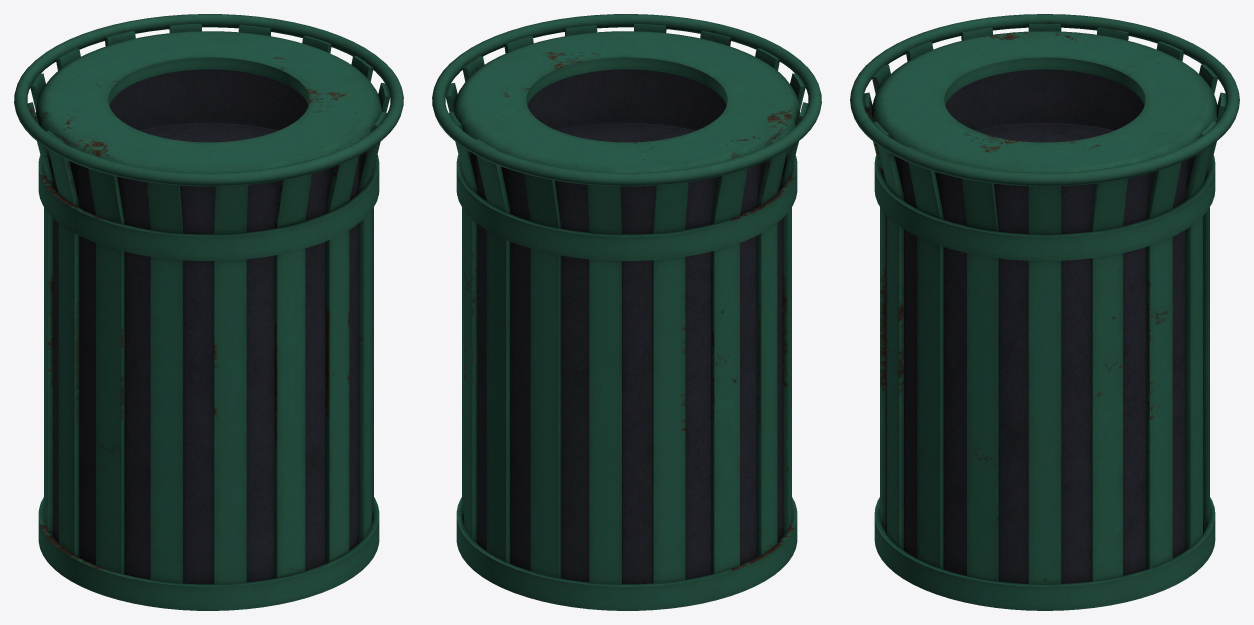
3 renders of one model, left to right at view 1: azimuth 30°, elevation 25°; view 2: azimuth 150°, elevation 25°; view 3: azimuth 270°, elevation 25°, orthographic.
Visible parts, largest first — view 1: Receptacle_Trash3_36; view 2: Receptacle_Trash3_36; view 3: Receptacle_Trash3_36.
Part boxes in pixels (x1,y1,x2,y2): Receptacle_Trash3_36: (14, 14, 403, 610); Receptacle_Trash3_36: (432, 14, 821, 610); Receptacle_Trash3_36: (850, 14, 1239, 610).
Size of the model in its own units: 0.7366 by 0.9271 by 0.7366.
Materials: 1 (1 with a texture image).
